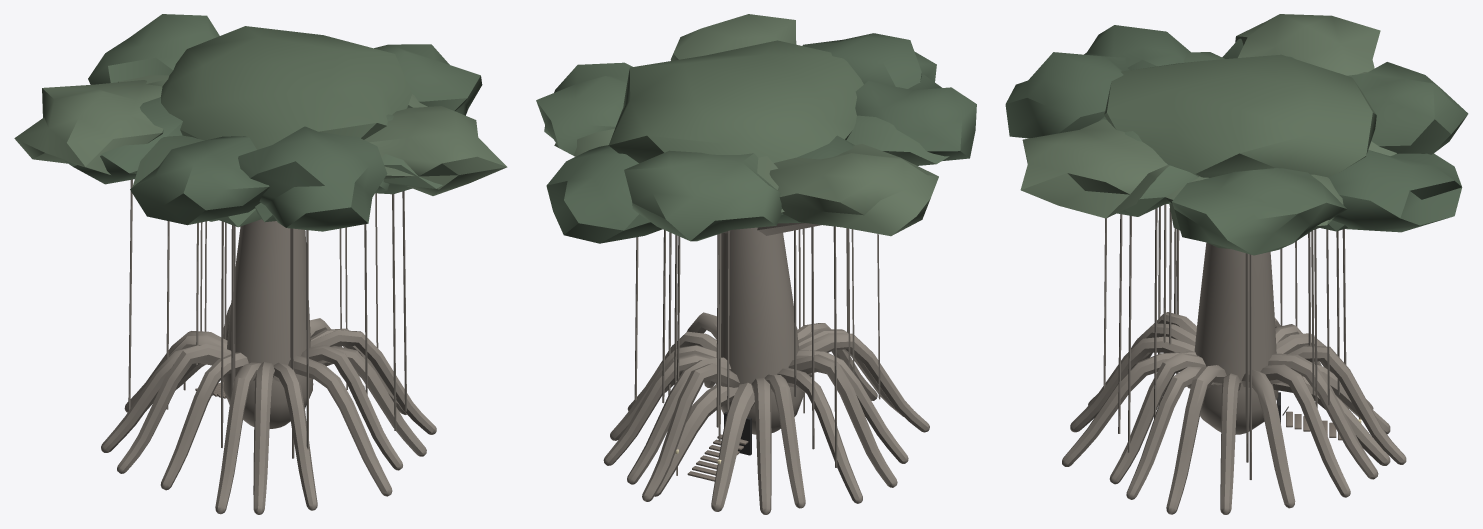
File: hollow_mangrove.gltf
The picture shows the model from 3 angles, left to right: view 1: azimuth 30°, elevation 25°; view 2: azimuth 150°, elevation 25°; view 3: azimuth 270°, elevation 25°; orthographic projection. The views are drawn at different scales.
Visible parts, largest first — view 1: Body; view 2: Body; view 3: Body.
Boxes of the visible parts, x1,y1,x2,y2 form: Body: (14, 14, 507, 514); Body: (536, 14, 976, 514); Body: (1005, 14, 1468, 514).
Size of the model in its own units: 50.39 by 43.46 by 48.08.
